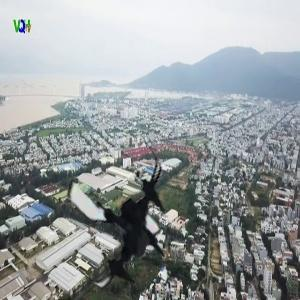drone: (45, 140, 193, 288)
